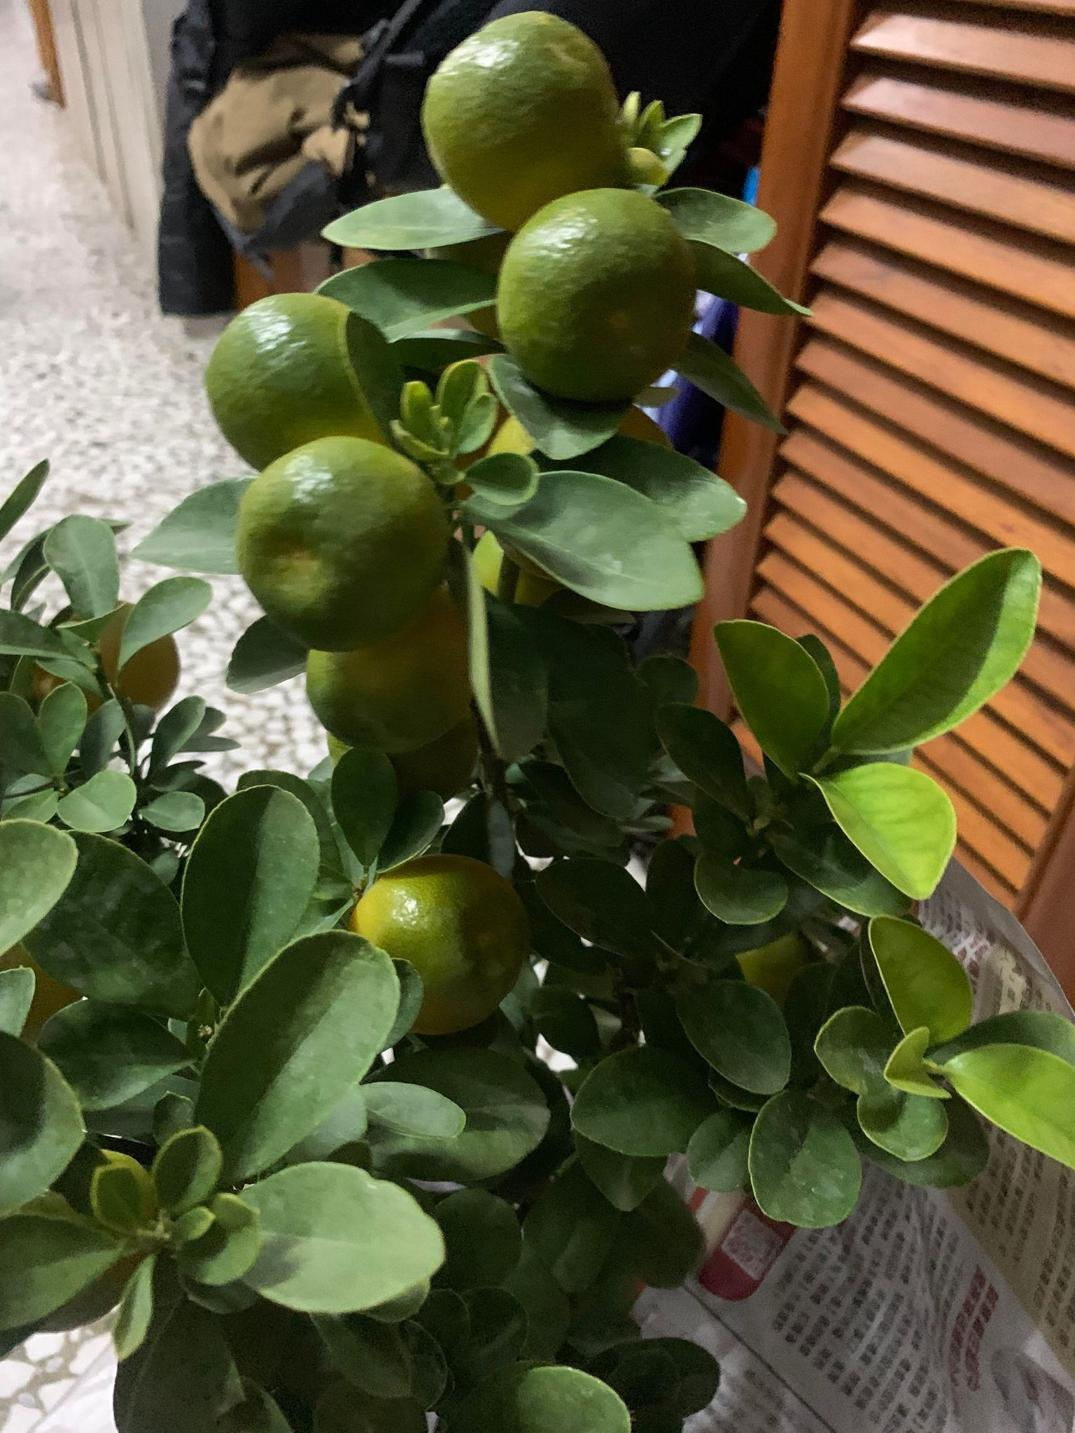Kumquat: (241, 427, 454, 652), (419, 14, 635, 229), (502, 191, 697, 409), (202, 283, 395, 477), (349, 856, 531, 1039)
